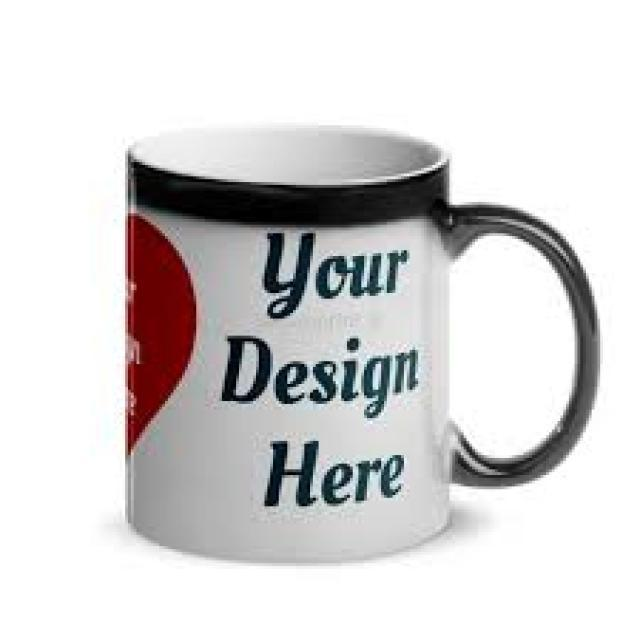taza: (126, 122, 602, 561)
